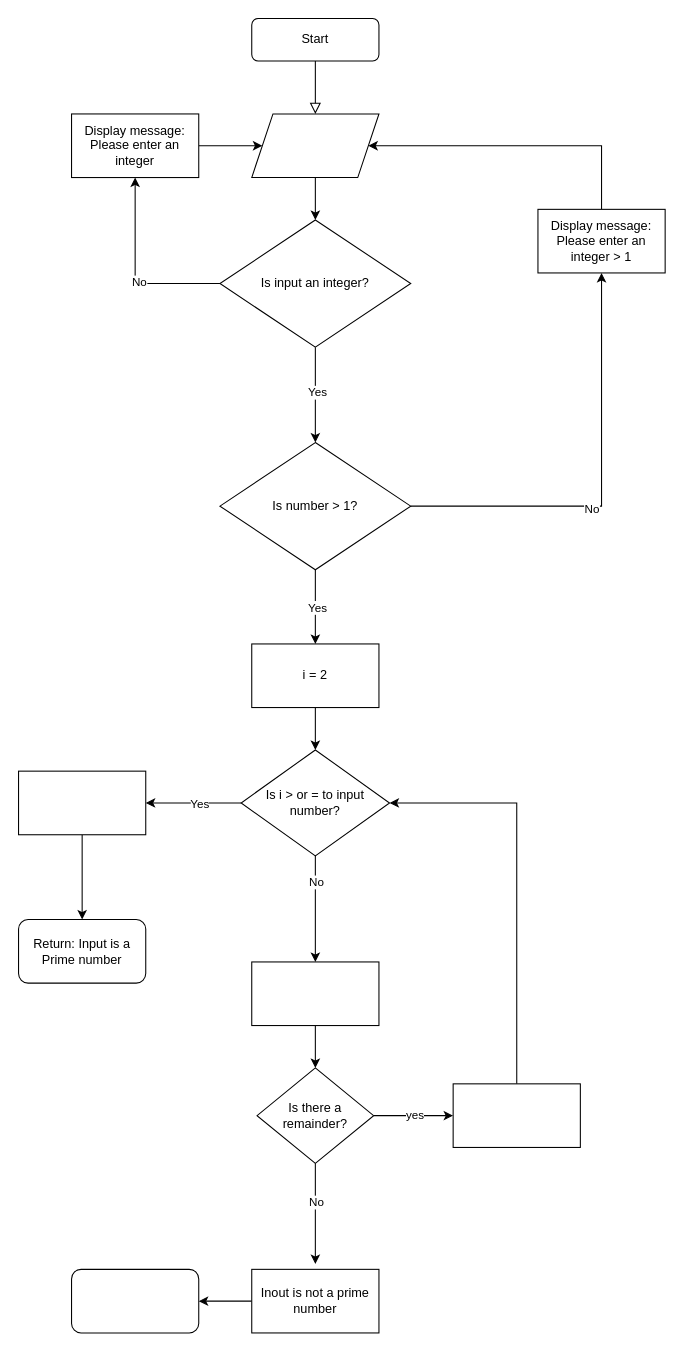
Some shapes in this 684 by 1351 pixel diagram are drawn without their labels. The shapes that lost their labels are listed below. From the top down, each one's box as (x1, y1, x2, y2) in pixels, then its label:
(251, 113, 379, 178): Input Number
(17, 770, 146, 835): Input is a prime number
(251, 961, 379, 1026): Divide input by i
(452, 1083, 580, 1147): i = i+1
(70, 1268, 199, 1333): Return: Input is not a Prime number
